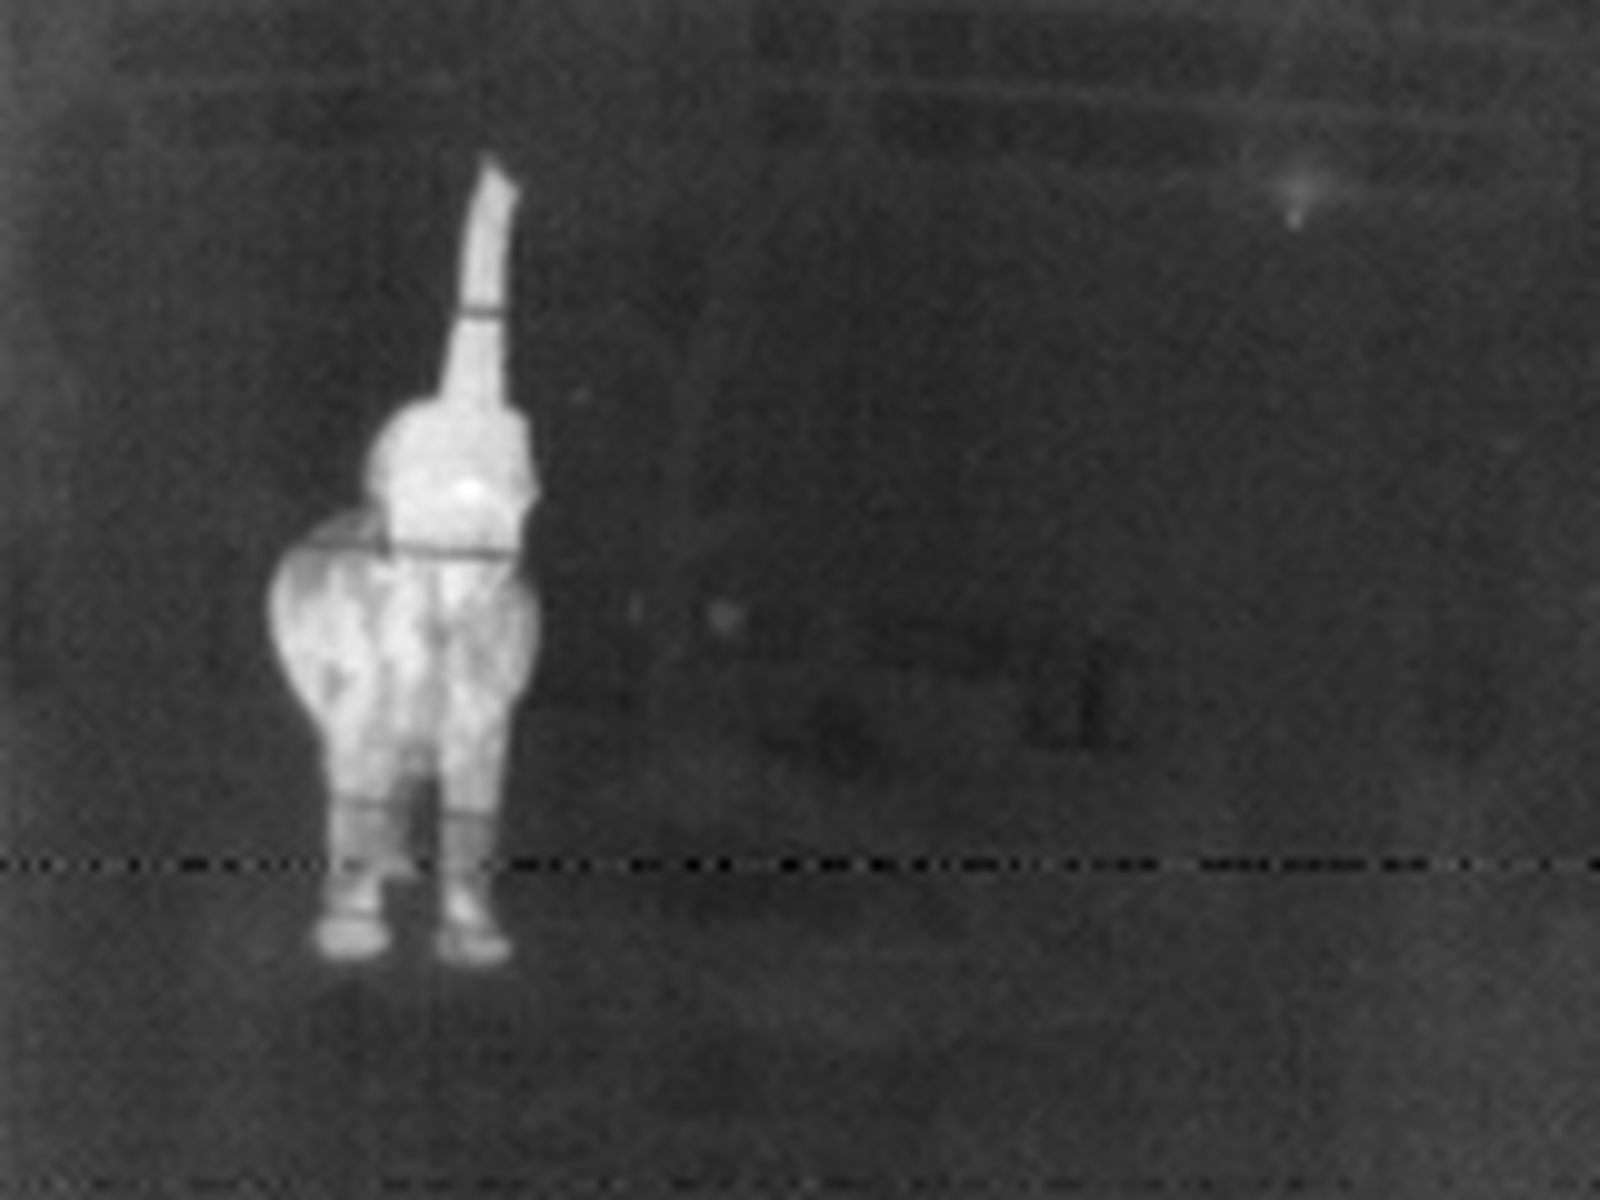elephant: (228, 147, 566, 1037)
